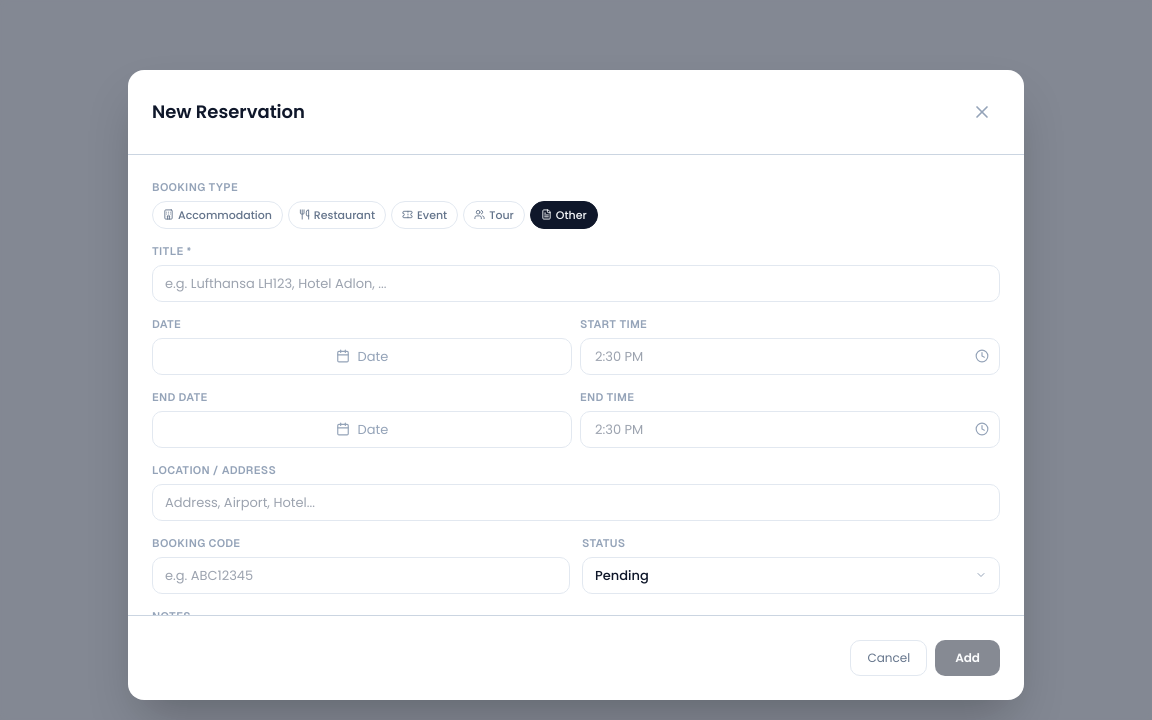
Test: ReservationModal › FE-PLANNER-RESMODAL-019: save button is disabled while saving
Type "Test Booking" into the field with placeholder "e.g. Lufthansa LH123, Hotel Adlon, ..." at (576, 283), box [152, 264, 1000, 302]
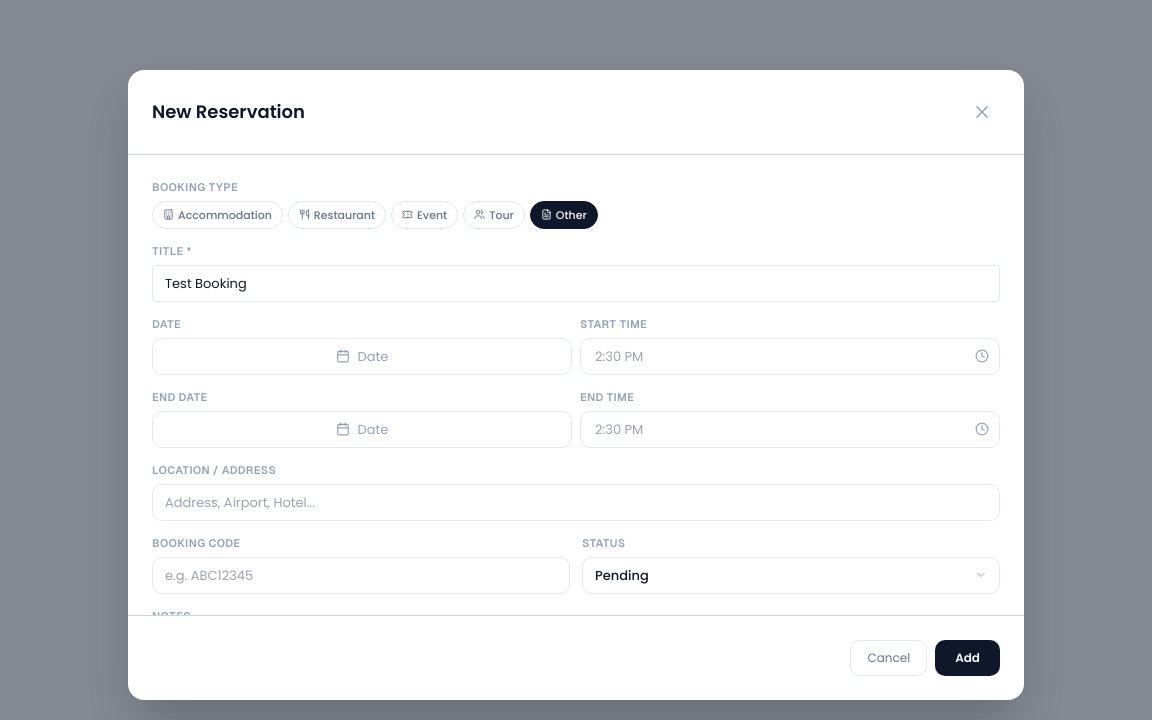
Click the button "Add" at (968, 658), box [935, 640, 1000, 676]
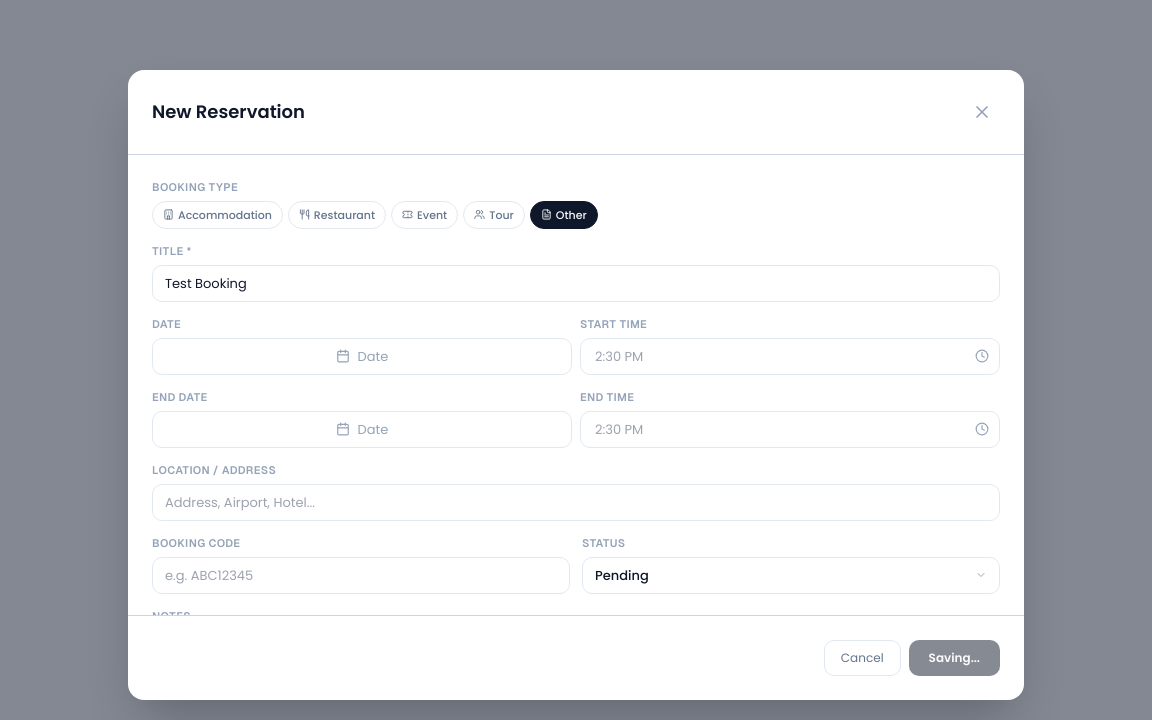
expect the button "Saving..." is disabled: met, box [909, 640, 1000, 676]
